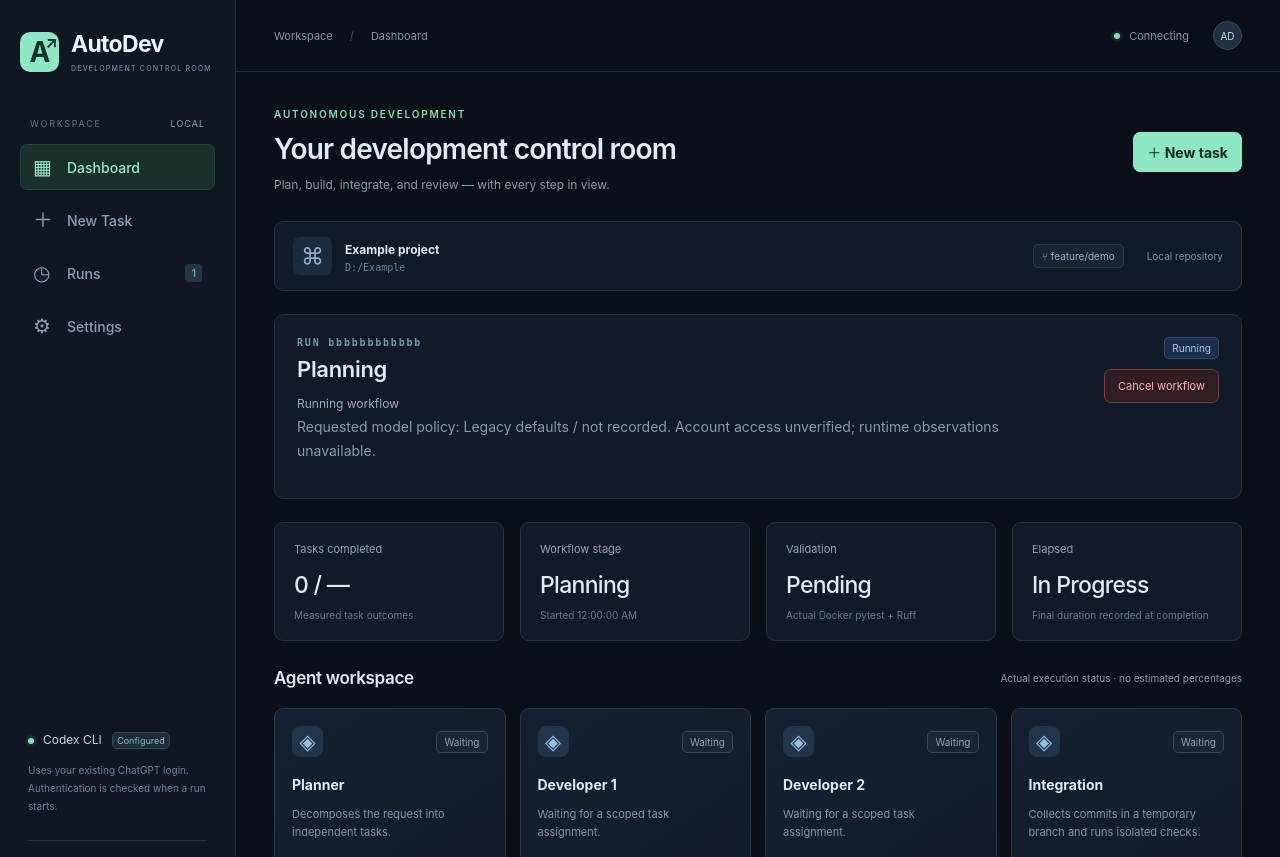
Scenario: dashboard interactions › requests cancellation and disables repeated cancellation while cleanup is pending
Click the button "Cancel workflow": x=1161, y=386 [1104,369,1219,403]
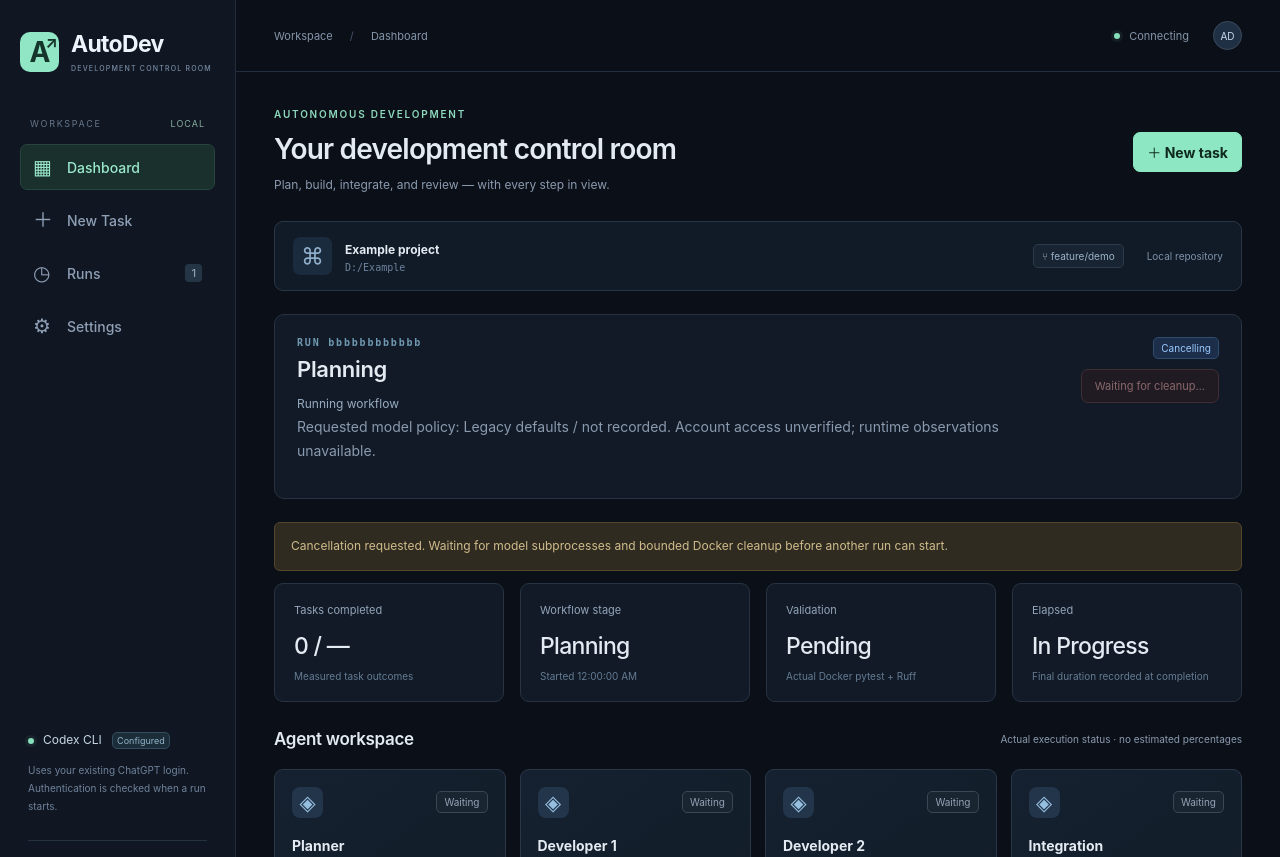
Expected: the button "Waiting for cleanup…" is disabled, [1081,369,1219,403]
